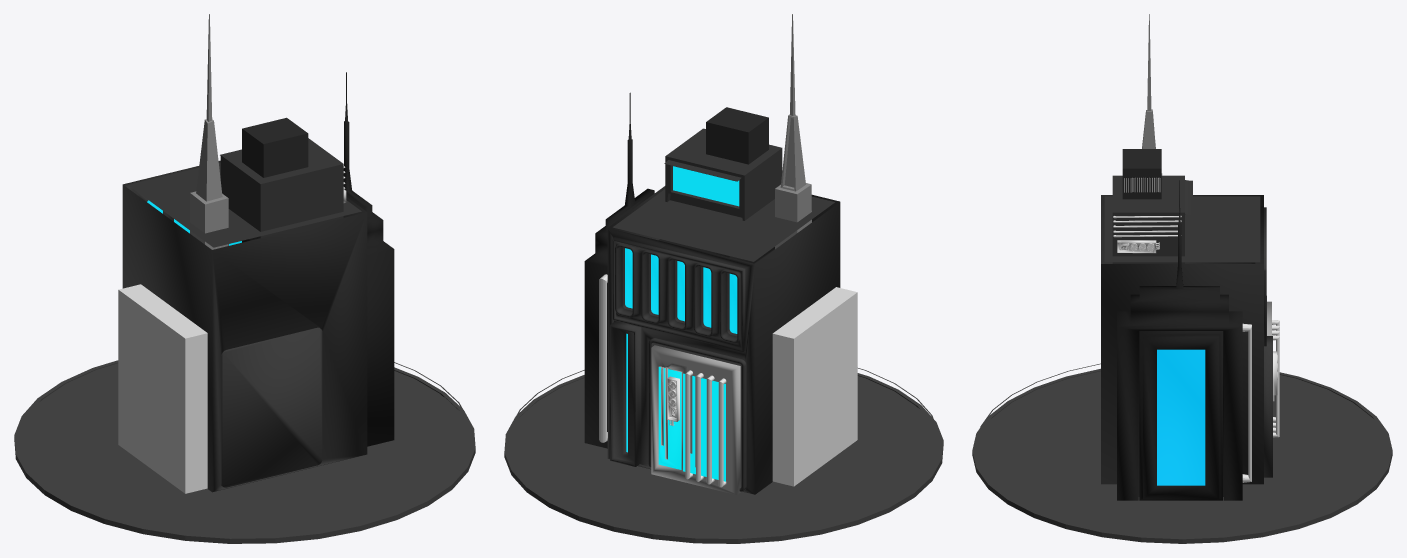
Rendered from futuristic build.glb.
3 views of the same model, side by side, from view 1: azimuth 30°, elevation 25°; view 2: azimuth 150°, elevation 25°; view 3: azimuth 270°, elevation 25° (orthographic). The views are drawn at different scales.
Visible parts, largest first — view 1: Cube, Cylinder, Cube.002, Cube.005, Cube.001, Cube.007, Cube.006; view 2: Cube, Cylinder, Cube.002, Cube.004, Cube.005, Cube.001, Cube.007, Cube.006, Vert.005, Vert.001, Vert.002, Vert.004 (+1 smaller); view 3: Cylinder, Cube.001, Cube, Cube.005, Cube.006, Cube.007, Vert.005.
Boxes of the visible parts, x1,y1,x2,y2 form: Cube: (122, 160, 367, 492); Cylinder: (14, 360, 475, 543); Cube.002: (118, 284, 207, 493); Cube.005: (220, 138, 343, 240); Cube.001: (242, 72, 394, 446); Cube.007: (190, 14, 228, 249); Cube.006: (242, 117, 308, 177); Cube: (607, 186, 840, 494); Cylinder: (504, 368, 943, 543); Cube.002: (772, 287, 857, 486); Cube.004: (651, 345, 740, 494); Cube.005: (664, 128, 782, 220); Cube.001: (584, 92, 729, 448); Cube.007: (775, 14, 811, 249); Cube.006: (706, 107, 768, 164); Vert.005: (599, 274, 607, 442); Vert.001: (718, 378, 726, 487); Vert.002: (706, 375, 714, 484); Vert.004: (685, 370, 692, 479); Cylinder: (972, 363, 1392, 543); Cube.001: (1117, 180, 1242, 500); Cube: (1101, 195, 1272, 484); Cube.005: (1112, 175, 1192, 263); Cube.006: (1122, 149, 1161, 199); Cube.007: (1142, 14, 1162, 175); Vert.005: (1242, 323, 1251, 482).
Bounding box in the file's own units: 6.2 × 7.12 × 6.2.
